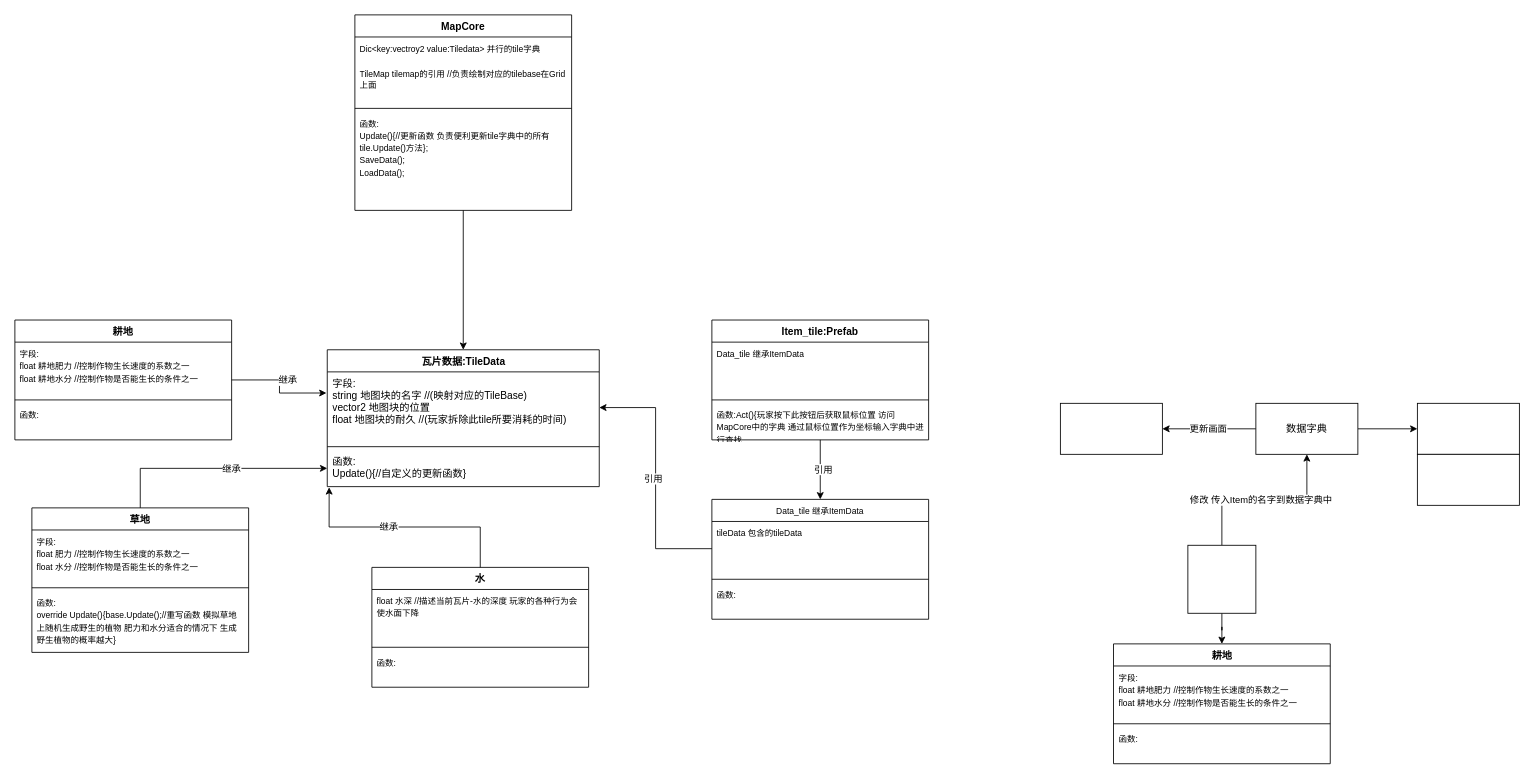
The diagram is 1534 pixels wide and 781 high, and some of its shapes have lost their labels. The shapes that lost their labels are listed below. From the top down, each one's centre as x and y in pixels, then its label:
At pixel 1111 428: "Grid".
At pixel 1468 428: "TileData Grass Water".
At pixel 1468 479: "其子类只负责重写Update".
At pixel 1221 578: "Item<-玩家控制".
